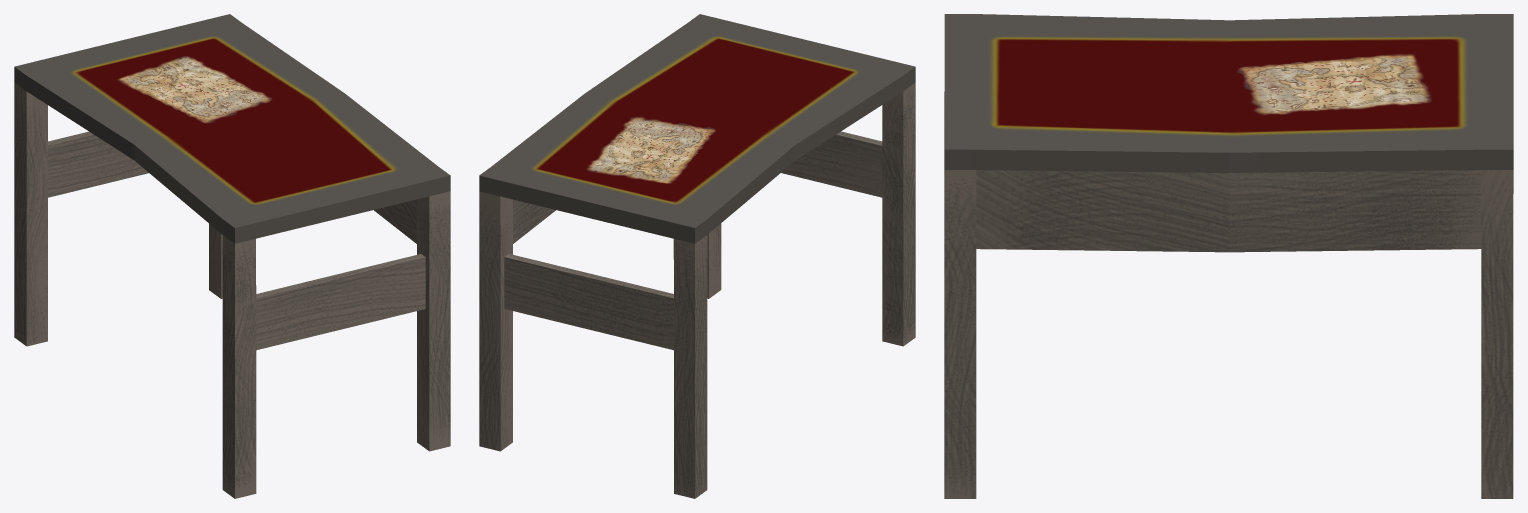
The model's file is table.fbx.
The picture shows the model from 3 angles, left to right: view 1: azimuth 30°, elevation 25°; view 2: azimuth 150°, elevation 25°; view 3: azimuth 270°, elevation 25°; orthographic projection. The views are drawn at different scales.
Parts seen in each view (by area): view 1: polySurface2; view 2: polySurface2; view 3: polySurface2.
Boxes of the visible parts, <box> form: polySurface2: <box>14,14,450,498</box>; polySurface2: <box>479,14,915,498</box>; polySurface2: <box>944,14,1513,498</box>.
Bounding box in the file's own units: 1.79 × 2.11 × 3.11.
1 material, 1 textured.
